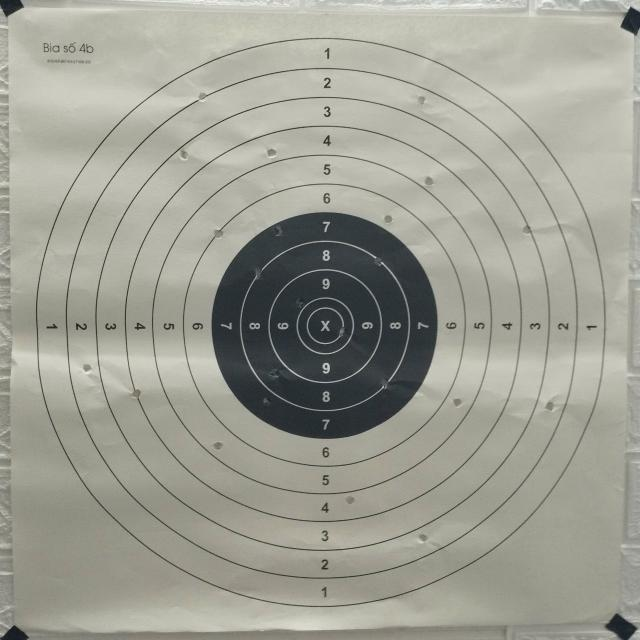bullet: (544, 400, 556, 412), (212, 228, 224, 240), (212, 440, 224, 451), (197, 92, 208, 103), (296, 297, 306, 309), (344, 496, 356, 504), (420, 532, 428, 544), (272, 368, 280, 380), (180, 148, 188, 160), (424, 176, 432, 187), (376, 256, 384, 267), (524, 224, 532, 235), (268, 148, 276, 159), (132, 388, 140, 399), (336, 328, 344, 339), (272, 228, 283, 236), (264, 396, 271, 407), (416, 96, 424, 104), (384, 216, 392, 224), (84, 364, 92, 372), (380, 380, 388, 388), (452, 400, 459, 408), (256, 268, 260, 276)
target: (9, 8, 616, 632)
